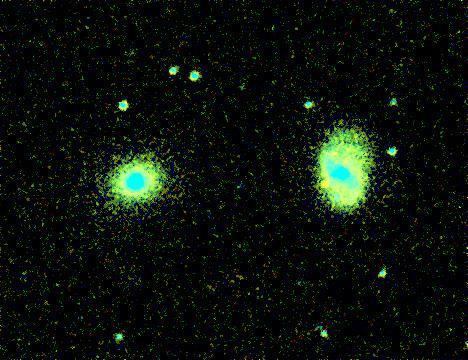star: (311, 171, 341, 201)
